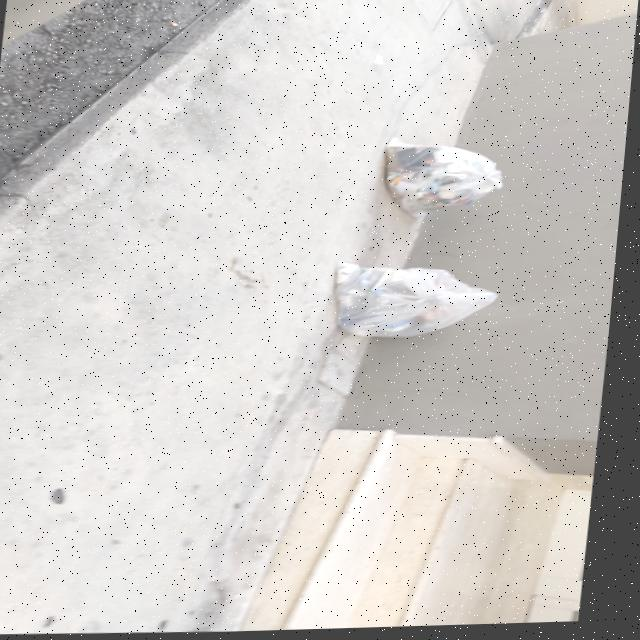Recycled Waste -Grey or Green Bag-: (323, 257, 506, 346), (375, 139, 517, 226)
